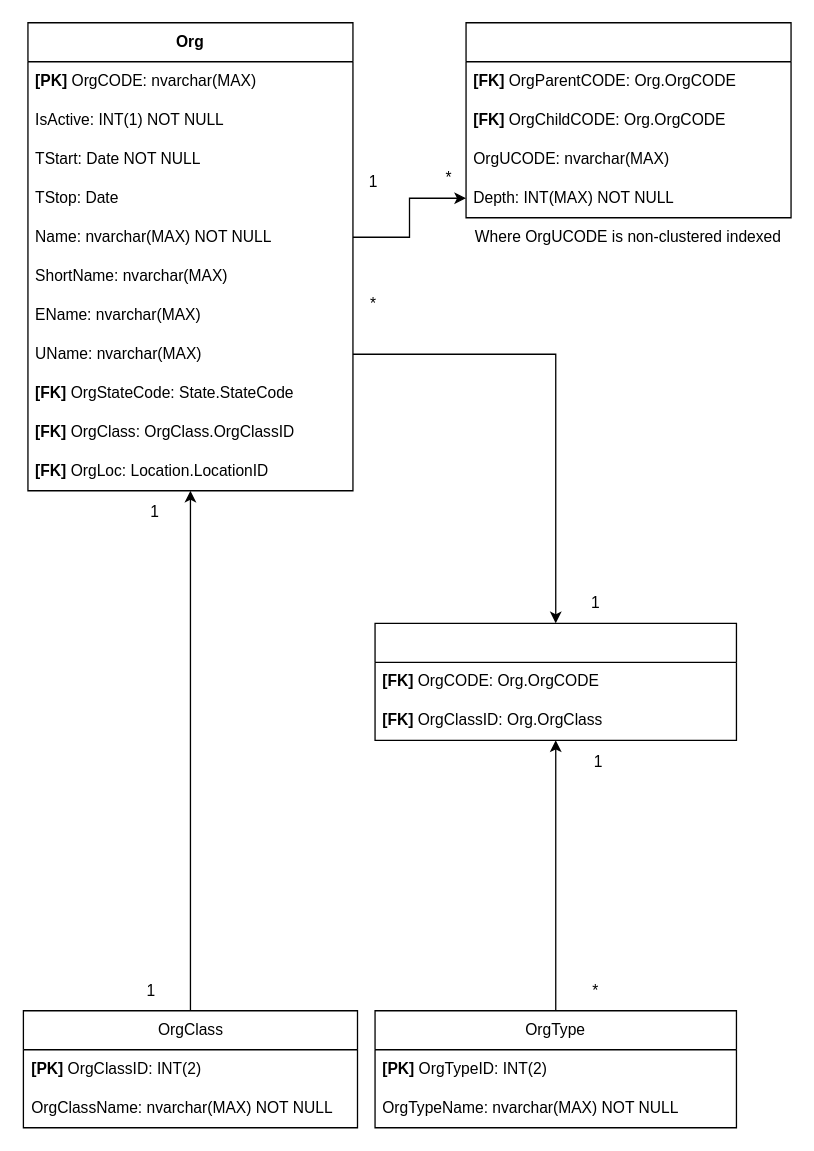
This 814x1151 diagram has some shape labels left out. Each missing label, with the box of its shape:
OrgRelationship: (465, 21, 791, 218)
OrgTypeJoin: (374, 622, 736, 740)
